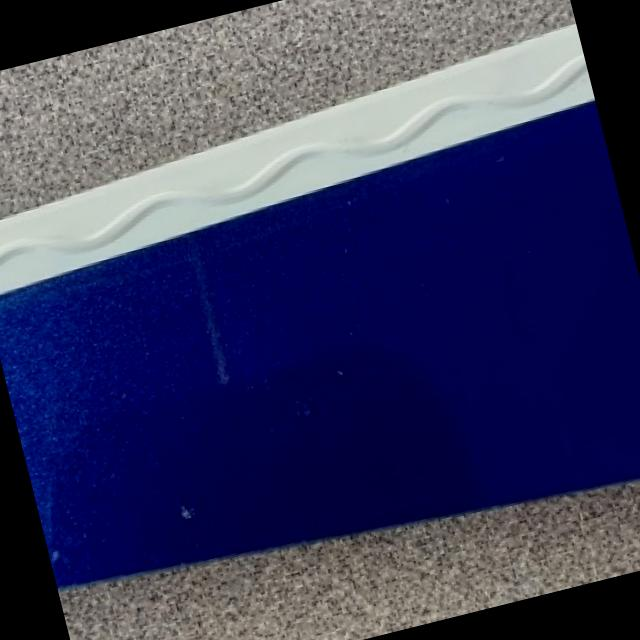healthy: (0, 26, 640, 584)
